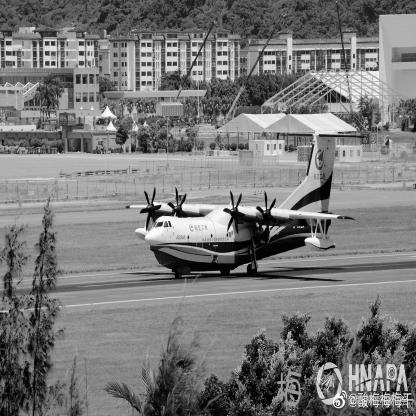AG600: (126, 132, 370, 281)
